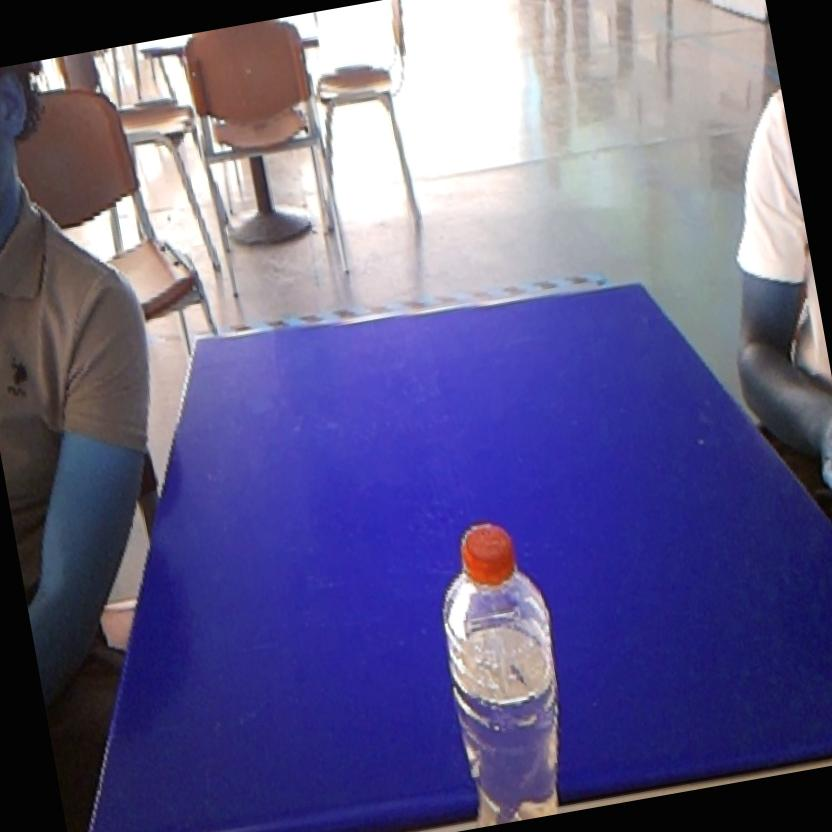no_label: (411, 502, 590, 823)
